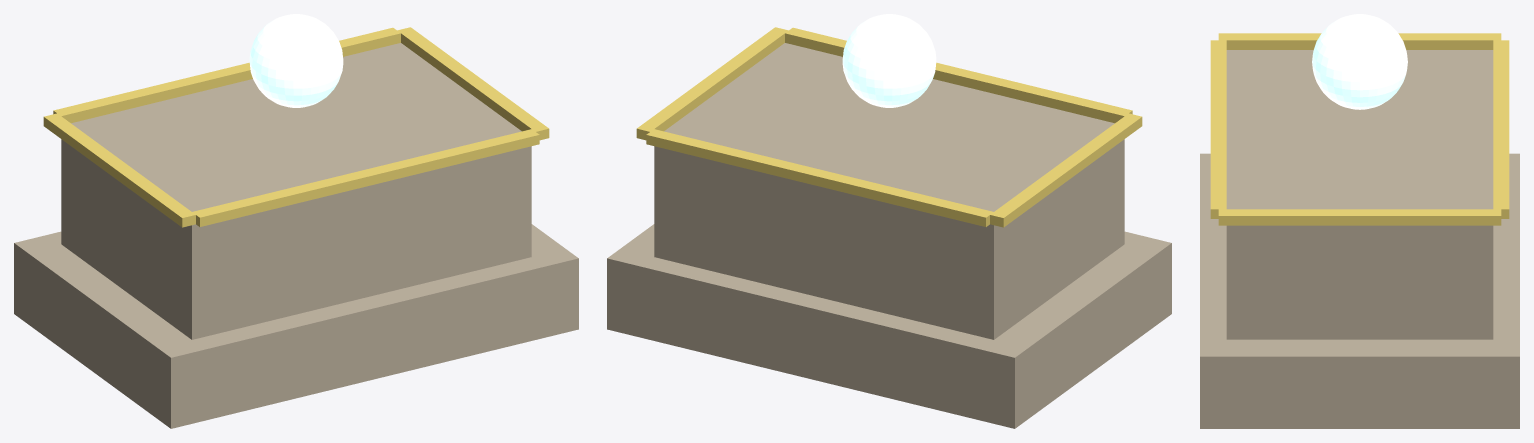
Rendered from altar.glb.
3 views of the same model, side by side, from view 1: azimuth 30°, elevation 25°; view 2: azimuth 150°, elevation 25°; view 3: azimuth 270°, elevation 25° (orthographic).
Visible parts, largest first — view 1: Cube.001, Cube, Sphere, Cube.003, Cube.002, Cube.005, Cube.004; view 2: Cube.001, Cube, Sphere, Cube.002, Cube.003, Cube.005, Cube.004; view 3: Cube.001, Cube, Sphere, Cube.004, Cube.005, Cube.002, Cube.003.
Boxes of the visible parts, x1,y1,x2,y2 form: Cube.001: [61, 43, 531, 339]; Cube: [14, 224, 578, 428]; Sphere: [249, 14, 343, 107]; Cube.003: [192, 129, 539, 226]; Cube.002: [53, 27, 400, 123]; Cube.005: [43, 113, 195, 227]; Cube.004: [397, 27, 549, 140]; Cube.001: [654, 43, 1124, 339]; Cube: [607, 224, 1171, 428]; Sphere: [842, 14, 936, 107]; Cube.002: [646, 129, 993, 226]; Cube.003: [785, 27, 1132, 123]; Cube.005: [990, 113, 1142, 227]; Cube.004: [636, 27, 788, 140]; Cube.001: [1226, 50, 1493, 339]; Cube: [1200, 153, 1519, 428]; Sphere: [1312, 14, 1407, 109]; Cube.004: [1218, 209, 1501, 225]; Cube.005: [1218, 33, 1501, 49]; Cube.002: [1493, 40, 1509, 218]; Cube.003: [1210, 40, 1226, 218].
Size of the model in its own units: 1.8 by 1.28 by 1.2.
